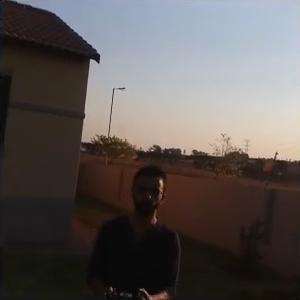follow: (80, 159, 185, 298)
